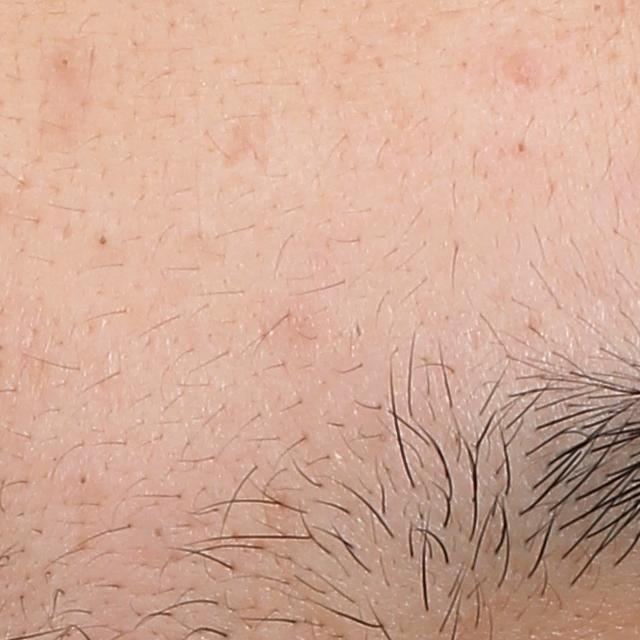atrophic_scar: (219, 120, 274, 170), (502, 45, 546, 95)
comedo: (75, 468, 92, 490), (92, 231, 112, 249), (587, 0, 606, 18), (56, 52, 71, 69), (515, 139, 529, 157)
